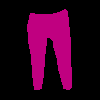pantaloni: (26, 8, 72, 90)
